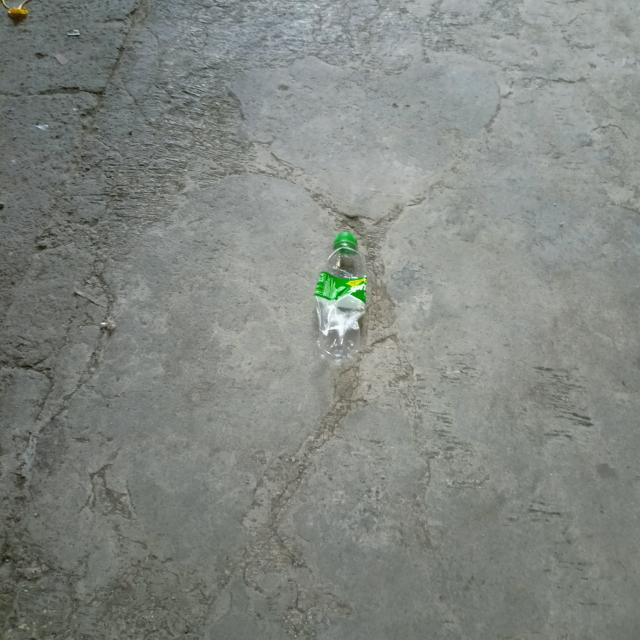Bottle: (314, 231, 367, 363)
